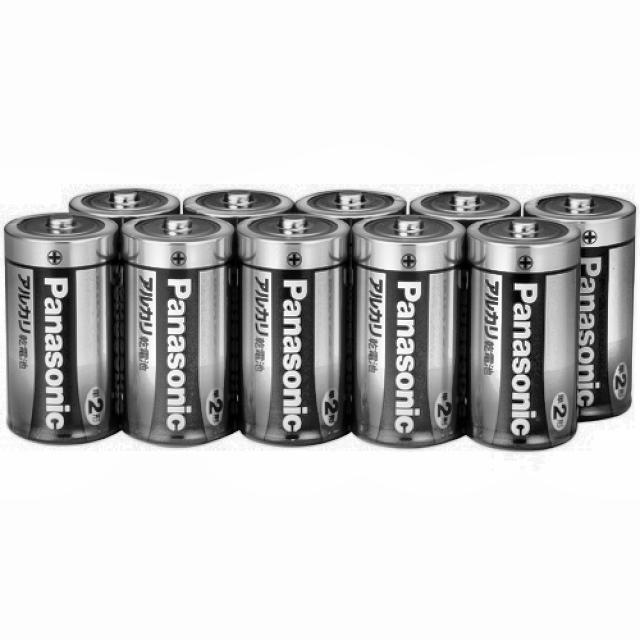drycell: (350, 209, 470, 452), (4, 210, 123, 452), (466, 208, 584, 452), (120, 211, 239, 452), (239, 213, 354, 457), (523, 191, 637, 423)
